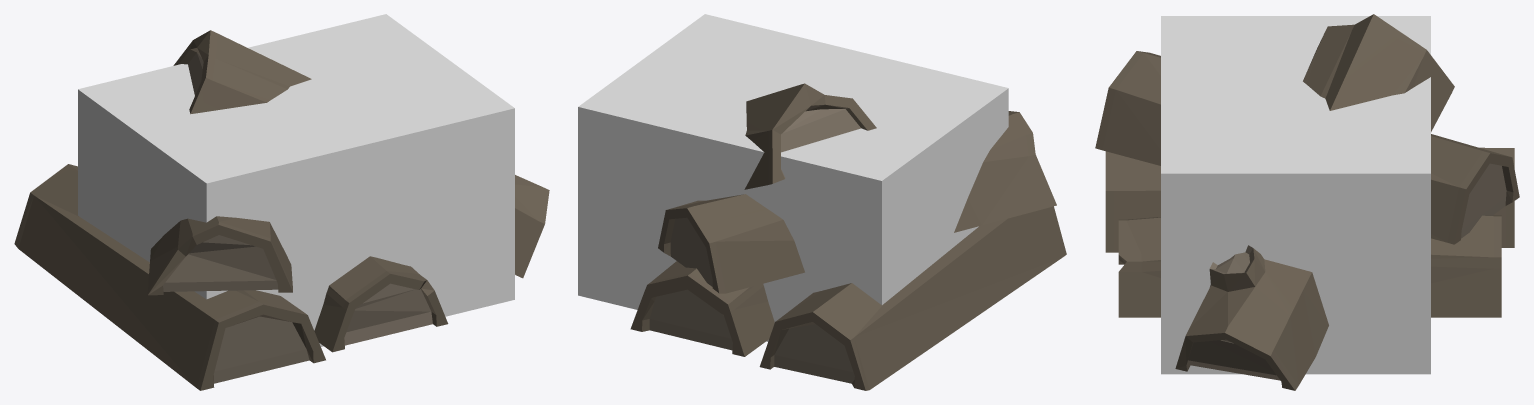
Rendered from fire_wood_1.glb.
3 renders of one model, left to right at view 1: azimuth 30°, elevation 25°; view 2: azimuth 150°, elevation 25°; view 3: azimuth 270°, elevation 25°, orthographic. The views are drawn at different scales.
Visible parts, largest first — view 1: Cube.001, Firewood; view 2: Cube.001, Firewood; view 3: Cube.001, Firewood.
Part boxes in pixels (box(x1,y1,x2,y2)): Cube.001: box(78, 14, 514, 346); Firewood: box(14, 30, 549, 390); Cube.001: box(578, 14, 1008, 341); Firewood: box(630, 83, 1066, 390); Cube.001: box(1161, 16, 1430, 374); Firewood: box(1095, 14, 1519, 390).
Size of the model in its own units: 0.7852 by 0.4237 by 0.6353.
1 material, 1 textured.
